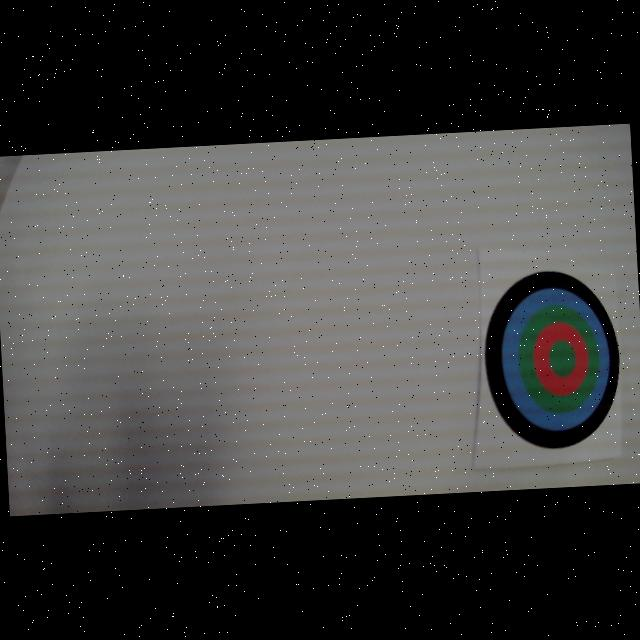COGNITIVE: (480, 264, 626, 452)
